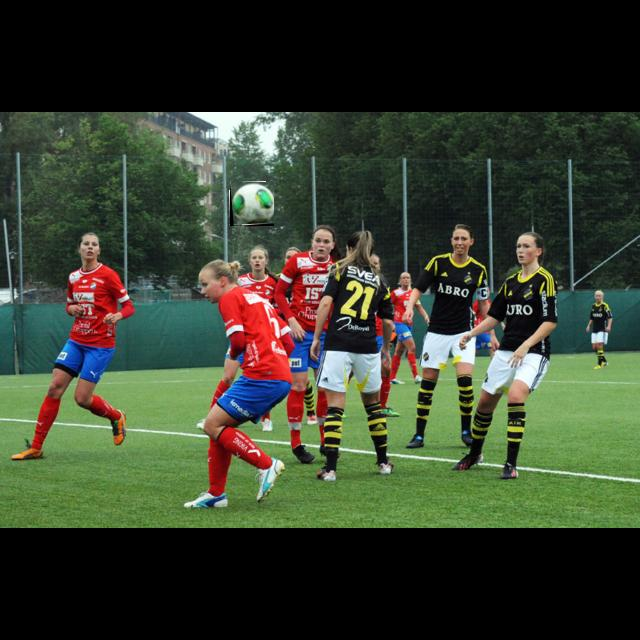Football: (230, 182, 274, 226)
